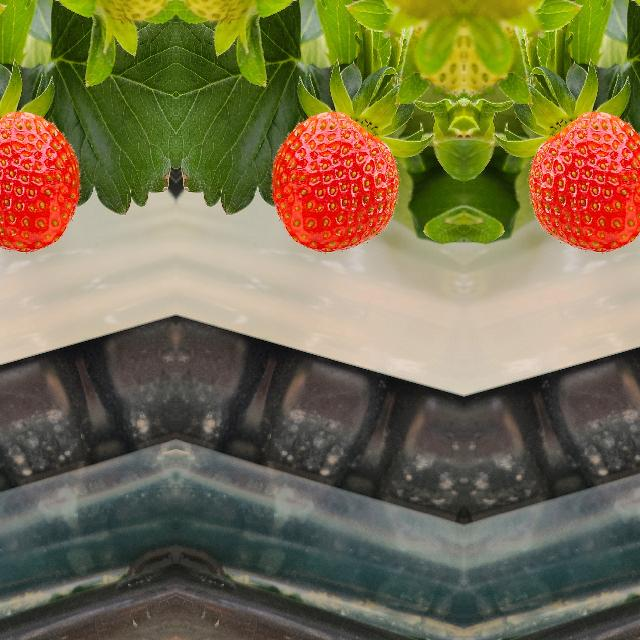Health_100: (268, 110, 400, 254), (525, 110, 640, 254), (0, 110, 82, 254)
